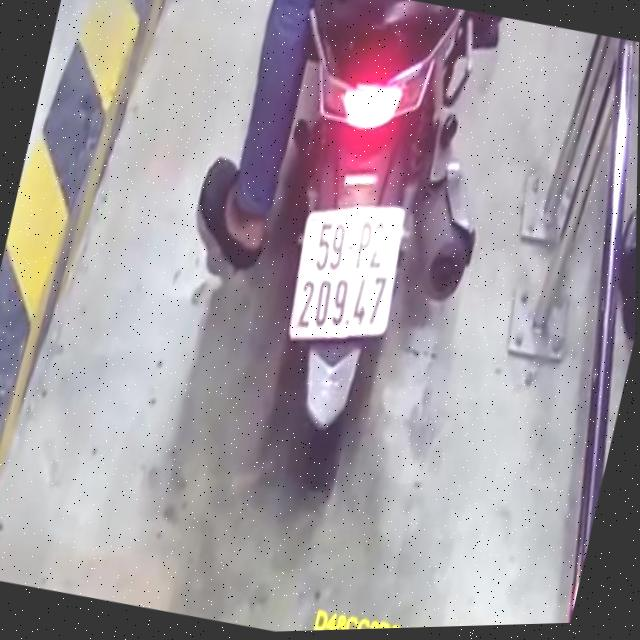motorcycle: (172, 0, 546, 532)
plate: (272, 185, 425, 365)
